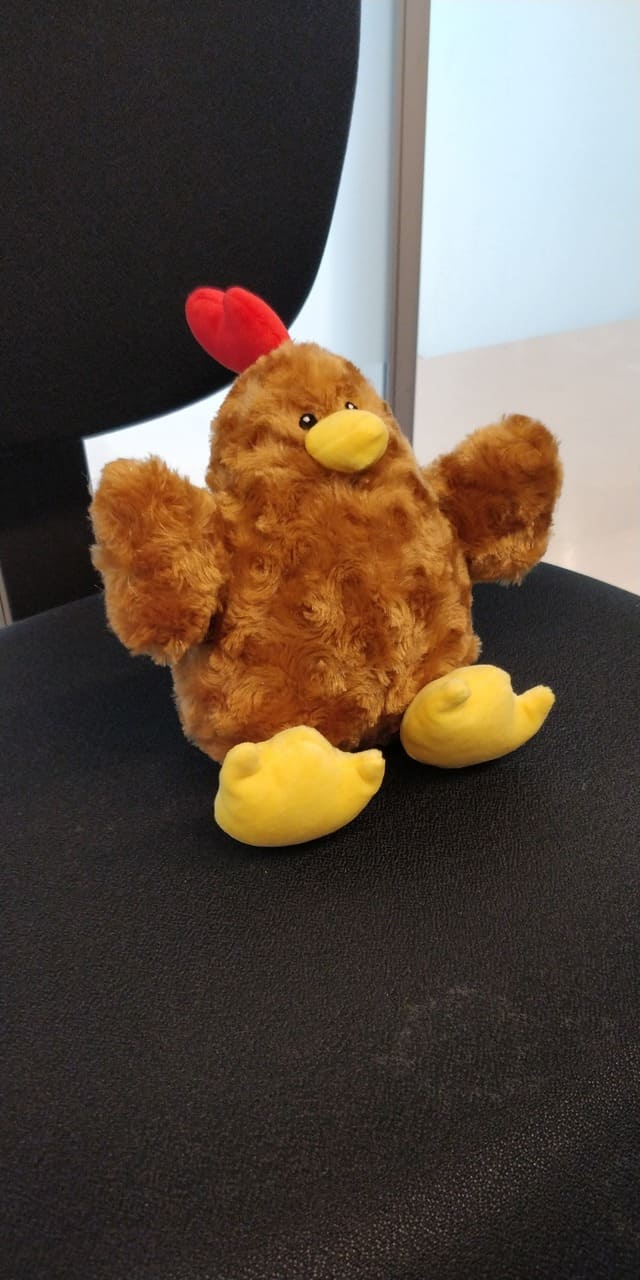fakeChicken: (89, 287, 566, 849)
